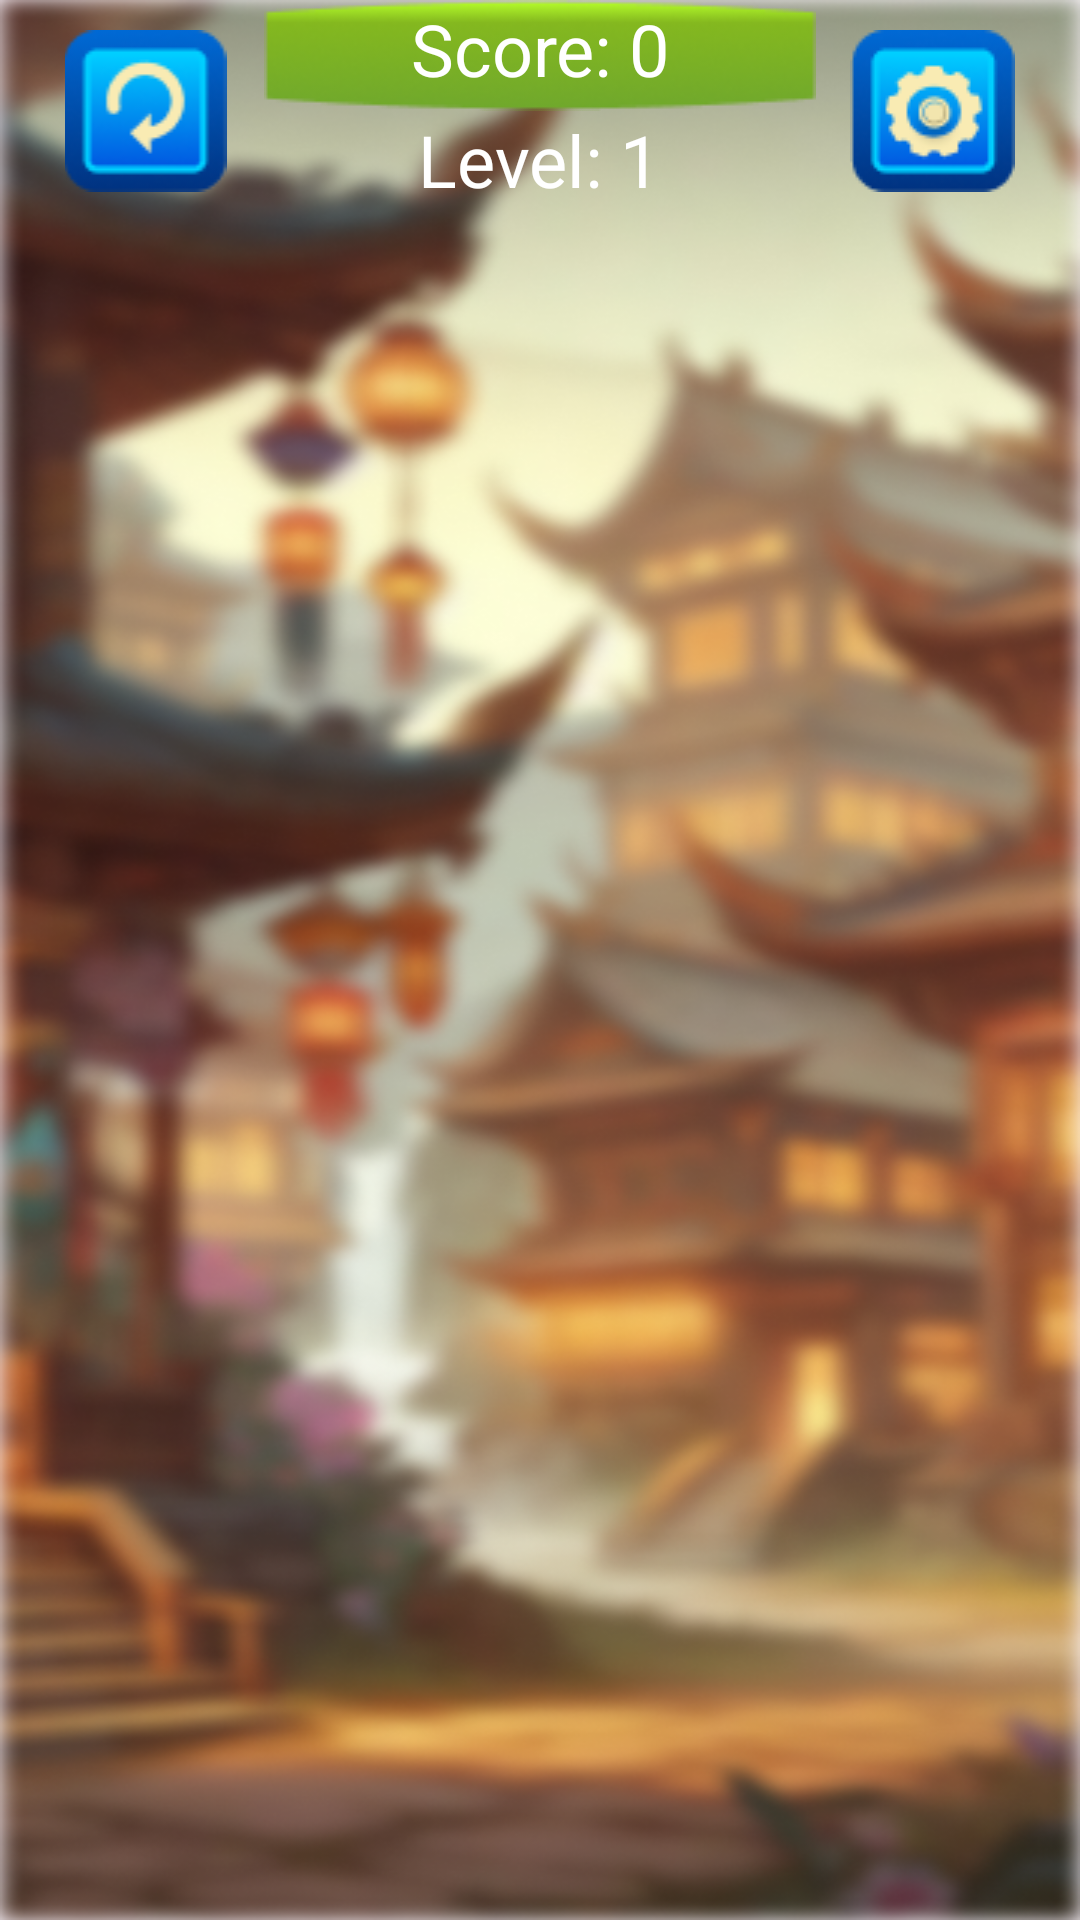

Icons on this 1080 × 1920 Android screen, each with the point to tap as [x,y]:
retryicon: [145,111]
